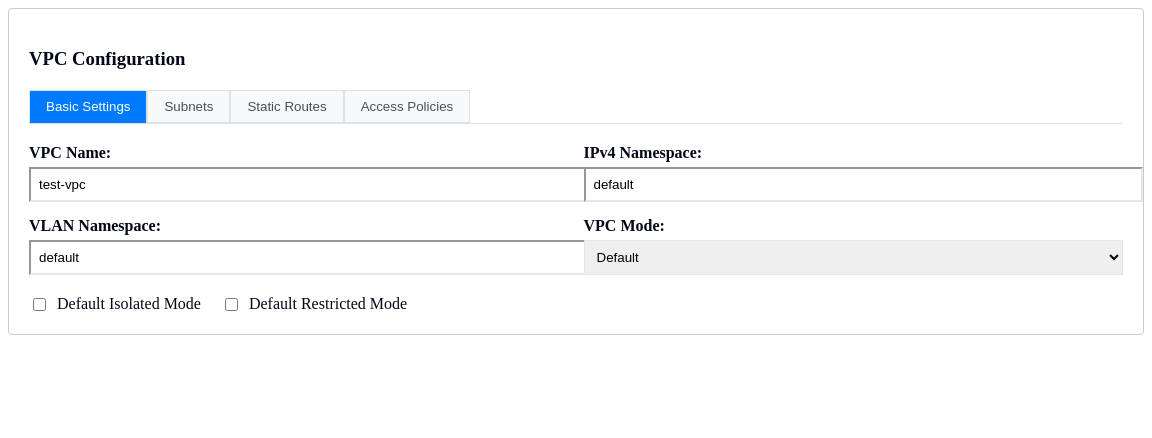
Test case: VPCEditor › shows correct tab content when switching tabs
The width and height of the screenshot is (1152, 438).
Expected: the text "VPC Name:" is shown, [29,144,111,161]
// Switch to subnets
Click the button "Subnets" at (189, 106), box [148,90,230,123]
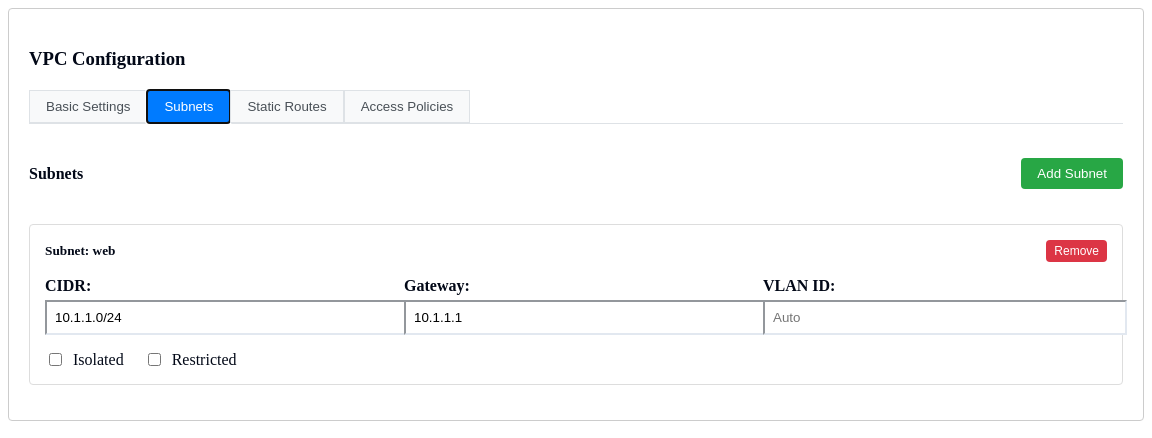
Expected: the button "Add Subnet" is shown, [1021,158,1123,190]
// Switch to routing
Click the button "Static Routes" at (287, 106), box [230,90,344,123]
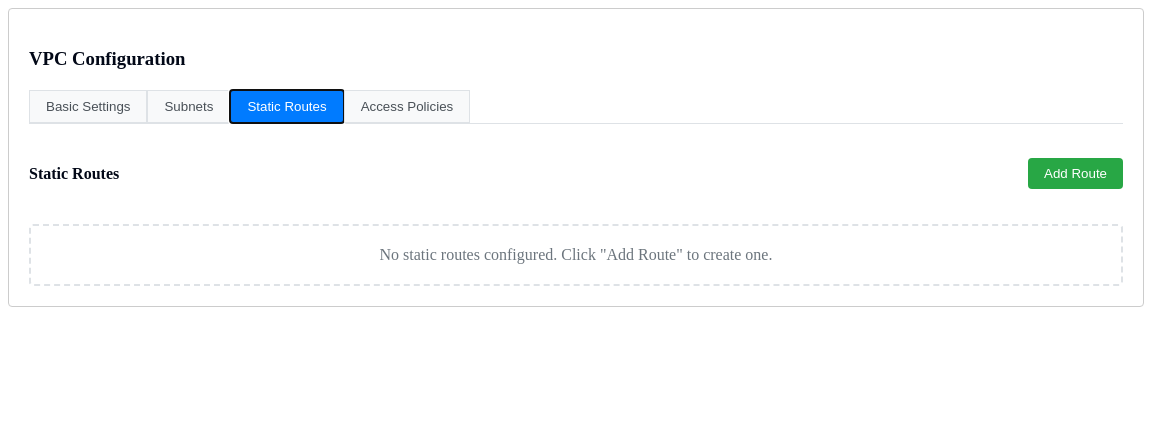
Expected: the button "Add Route" is shown, [1028,158,1123,190]
// Switch to policies
Click the button "Access Policies" at (407, 106), box [344,90,470,123]
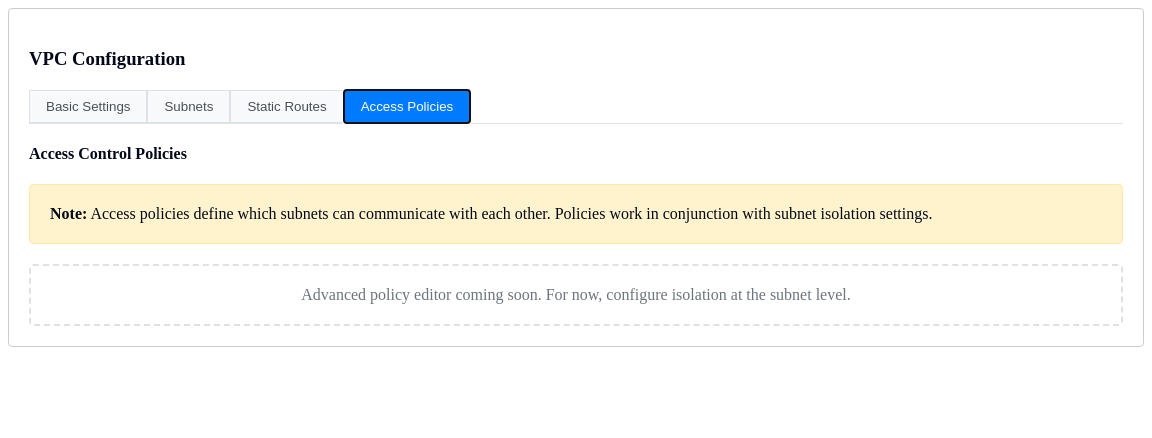
Expected: the heading "Access Control Policies" is shown, [29,145,187,162]
